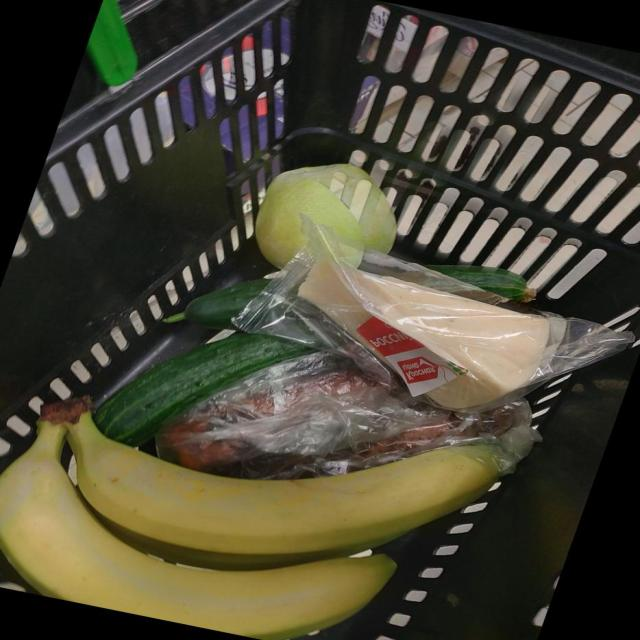Apple: (256, 163, 397, 267)
Banana: (0, 420, 396, 640), (65, 411, 503, 569)
Carrot: (358, 415, 455, 460), (175, 438, 246, 472)
Cheese: (299, 255, 568, 409)
Cucumber: (93, 332, 313, 446), (164, 276, 271, 328), (427, 264, 536, 302)
